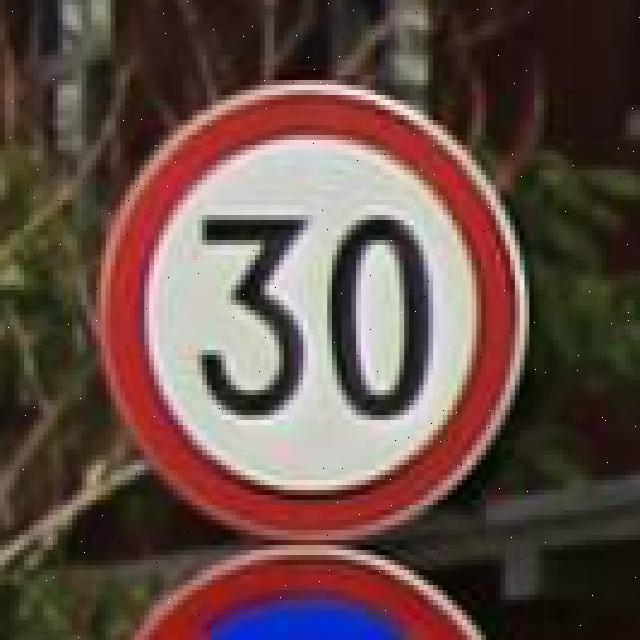speed limit 30: (99, 82, 527, 542)
